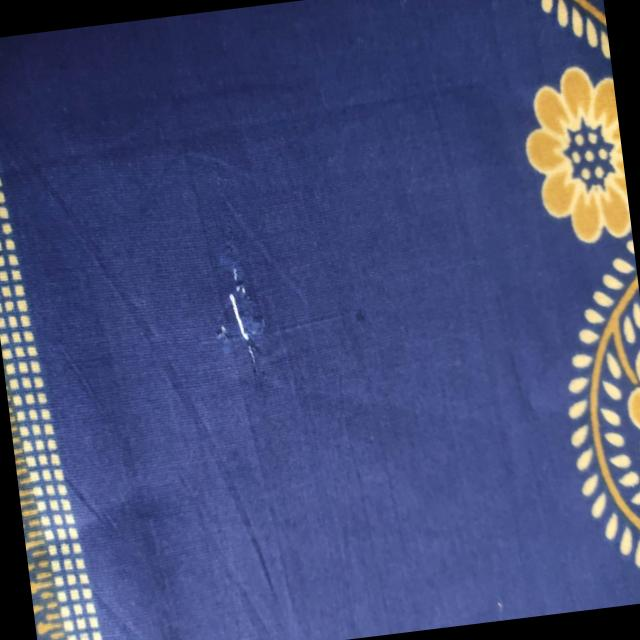selvet: (190, 227, 298, 396)
